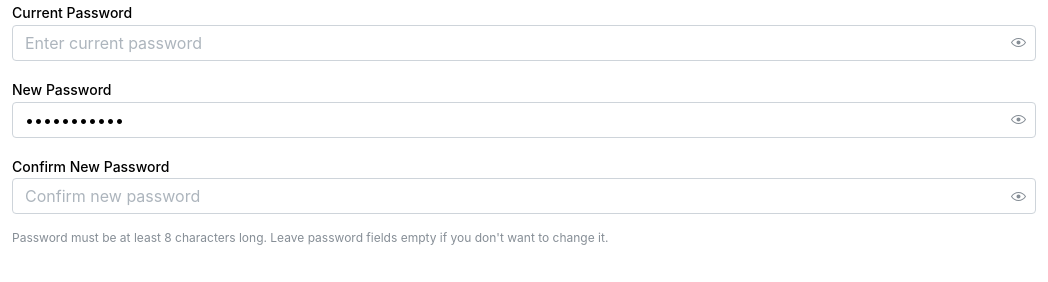
Test: SecuritySettings › shows error when passwords do not match
The image size is (1048, 282).
Type "different123" into the password field labelled "Confirm New Password" at (524, 196), box [13,179,1035,213]
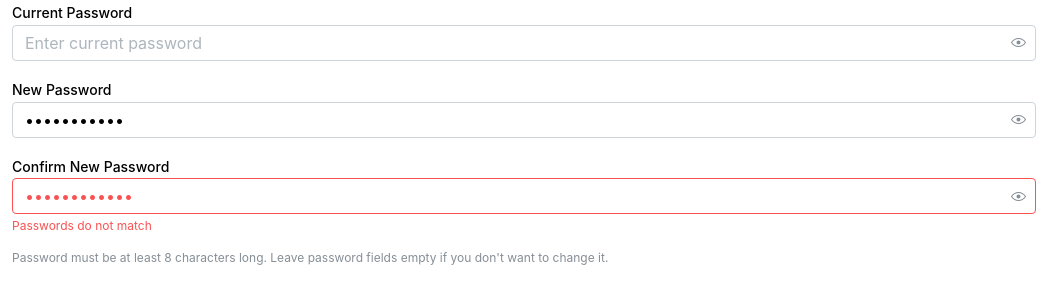
Expected: the text "Passwords do not match" is shown, [12,218,152,233]
